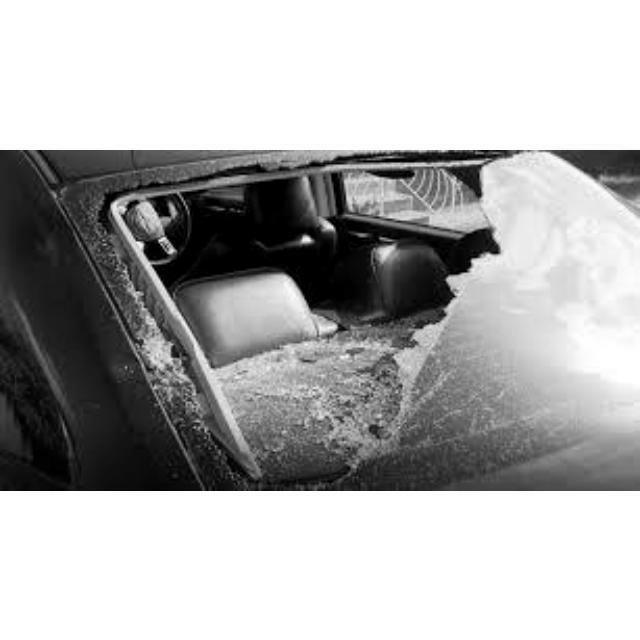Rear-windscreen-Damage: (83, 150, 625, 489)
